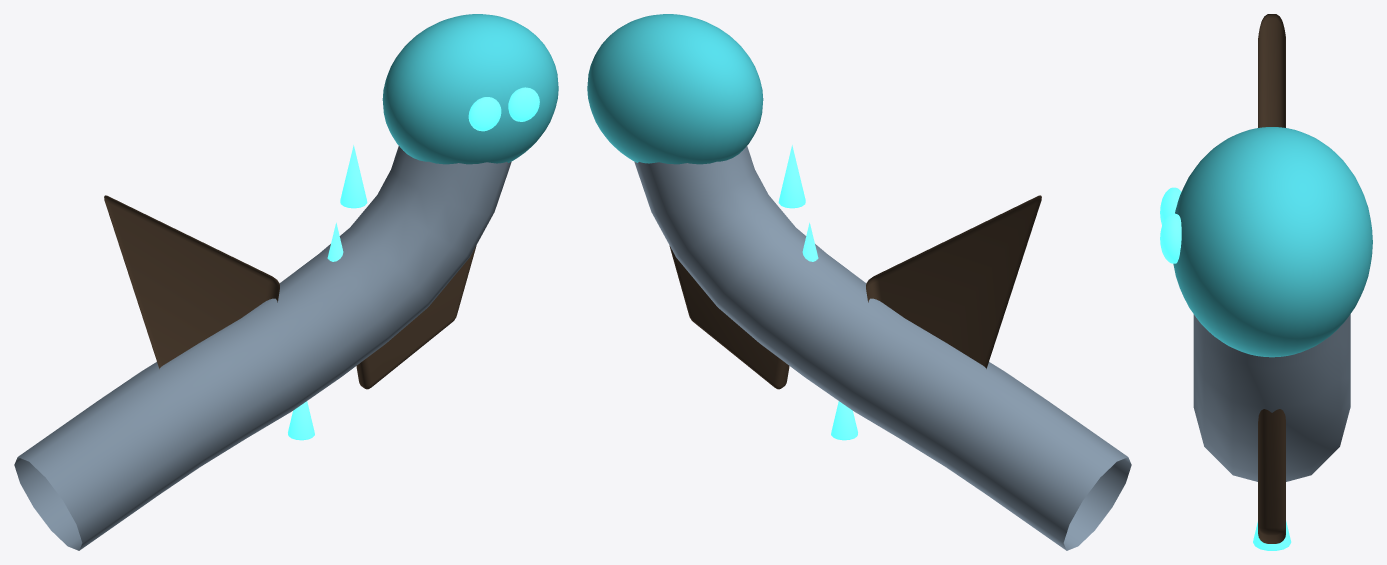
The model's file is dragon_v7.glb.
3 renders of one model, left to right at view 1: azimuth 30°, elevation 25°; view 2: azimuth 150°, elevation 25°; view 3: azimuth 270°, elevation 25°, orthographic. The views are drawn at different scales.
Visible parts, largest first — view 1: SERPENT_DRAGON_PRIMARY, SERPENT_DRAGON_HEAD_ACCENT, SERPENT_WING_SECONDARY, SERPENT_WING_SECONDARY.001, SERPENT_SPINE_EMISSIVE.003, EYE_EMISSIVE, EYE_EMISSIVE.001, SERPENT_SPINE_EMISSIVE; view 2: SERPENT_DRAGON_PRIMARY, SERPENT_DRAGON_HEAD_ACCENT, SERPENT_WING_SECONDARY, SERPENT_WING_SECONDARY.001, SERPENT_SPINE_EMISSIVE.003, SERPENT_SPINE_EMISSIVE; view 3: SERPENT_DRAGON_HEAD_ACCENT, SERPENT_DRAGON_PRIMARY, SERPENT_WING_SECONDARY.001, SERPENT_WING_SECONDARY, EYE_EMISSIVE.001, EYE_EMISSIVE, SERPENT_SPINE_EMISSIVE.
Boxes of the visible parts, <box> form: SERPENT_DRAGON_PRIMARY: <box>14,146,511,550</box>; SERPENT_DRAGON_HEAD_ACCENT: <box>382,14,558,164</box>; SERPENT_WING_SECONDARY: <box>104,195,279,368</box>; SERPENT_WING_SECONDARY.001: <box>356,246,476,389</box>; SERPENT_SPINE_EMISSIVE.003: <box>340,145,367,208</box>; EYE_EMISSIVE: <box>468,97,501,131</box>; EYE_EMISSIVE.001: <box>508,87,539,121</box>; SERPENT_SPINE_EMISSIVE: <box>288,401,314,440</box>; SERPENT_DRAGON_PRIMARY: <box>634,146,1131,550</box>; SERPENT_DRAGON_HEAD_ACCENT: <box>587,14,763,164</box>; SERPENT_WING_SECONDARY: <box>866,195,1041,368</box>; SERPENT_WING_SECONDARY.001: <box>669,246,789,389</box>; SERPENT_SPINE_EMISSIVE.003: <box>778,145,805,208</box>; SERPENT_SPINE_EMISSIVE: <box>831,401,857,440</box>; SERPENT_DRAGON_HEAD_ACCENT: <box>1173,127,1372,357</box>; SERPENT_DRAGON_PRIMARY: <box>1193,314,1350,481</box>; SERPENT_WING_SECONDARY.001: <box>1258,409,1285,543</box>; SERPENT_WING_SECONDARY: <box>1258,14,1285,127</box>; EYE_EMISSIVE.001: <box>1160,213,1181,263</box>; EYE_EMISSIVE: <box>1160,187,1181,224</box>; SERPENT_SPINE_EMISSIVE: <box>1253,521,1291,550</box>.
Size of the model in its own units: 2.99 by 2.34 by 0.76.
